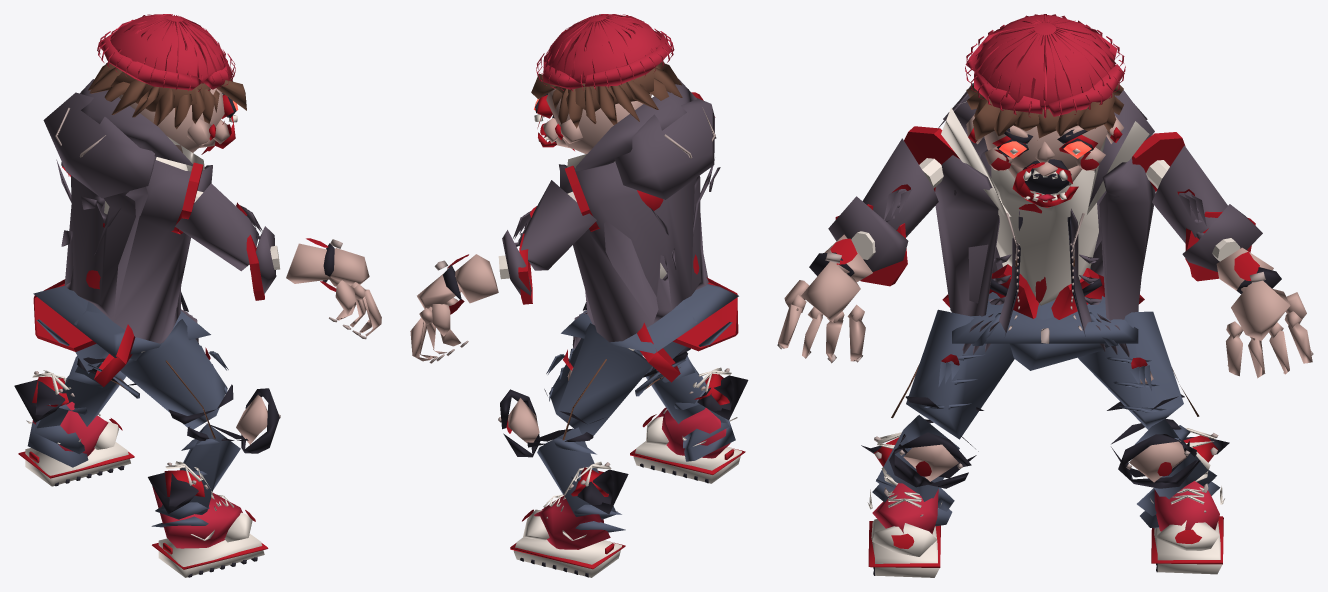
Rendered from inf.skater.lod1.glb.
3 views of the same model, side by side, from view 1: azimuth 30°, elevation 25°; view 2: azimuth 150°, elevation 25°; view 3: azimuth 270°, elevation 25° (orthographic). The views are drawn at different scales.
Parts seen in each view (by area): view 1: torso, head, footR, legR, footL, shinR, shinL, armR, hip, handR, foreArmR, stump_legL (+4 smaller); view 2: torso, head, footL, legL, footR, shinL, armL, hip, shinR, foreArmL, handL, stump_legR (+4 smaller); view 3: torso, head, legR, hip, footL, footR, legL, shinL, shinR, handL, handR, foreArmR (+9 smaller).
Part boxes in pixels (box(x1,y1,x2,y2)): torso: box(43, 79, 212, 343); head: box(88, 14, 246, 154); footR: box(148, 461, 268, 577); legR: box(87, 319, 233, 438); footL: box(14, 370, 134, 486); shinR: box(151, 388, 280, 527); shinL: box(27, 356, 136, 467); armR: box(175, 183, 262, 271); hip: box(33, 286, 210, 360); handR: box(320, 248, 381, 339); foreArmR: box(250, 226, 342, 293); stump_legL: box(33, 279, 96, 351); torso: box(559, 79, 720, 349); head: box(531, 14, 682, 153); footL: box(510, 461, 628, 577); legL: box(544, 323, 685, 440); footR: box(630, 367, 748, 483); shinL: box(498, 389, 625, 532); armL: box(513, 180, 596, 270); hip: box(561, 284, 738, 355); shinR: box(643, 352, 735, 461); foreArmL: box(434, 230, 531, 303); handL: box(410, 273, 468, 363); stump_legR: box(673, 277, 738, 351); torso: box(935, 83, 1155, 357); head: box(965, 14, 1125, 207); legR: box(891, 309, 1014, 439); hip: box(952, 292, 1138, 370); footL: box(1150, 428, 1229, 574); footR: box(861, 432, 942, 577); legL: box(1078, 311, 1199, 429); shinL: box(1111, 419, 1220, 528); shinR: box(872, 415, 978, 526); handL: box(1226, 280, 1313, 378); handR: box(777, 261, 865, 363); foreArmR: box(809, 196, 908, 281).
Bounding box in the file's own units: 0.6356 × 1.42 × 1.27.
